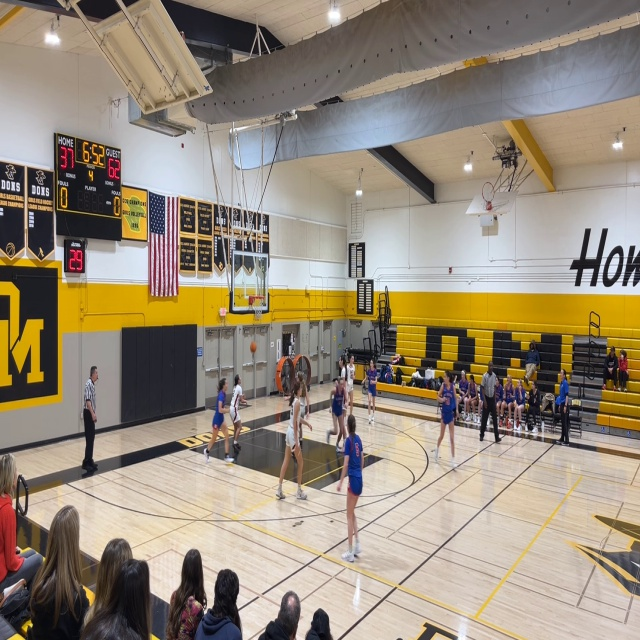Basketball: (250, 342, 257, 352)
